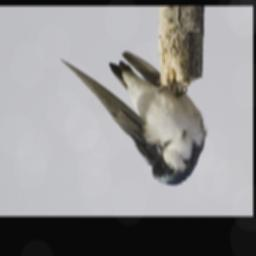Swallow: (56, 47, 212, 189)
